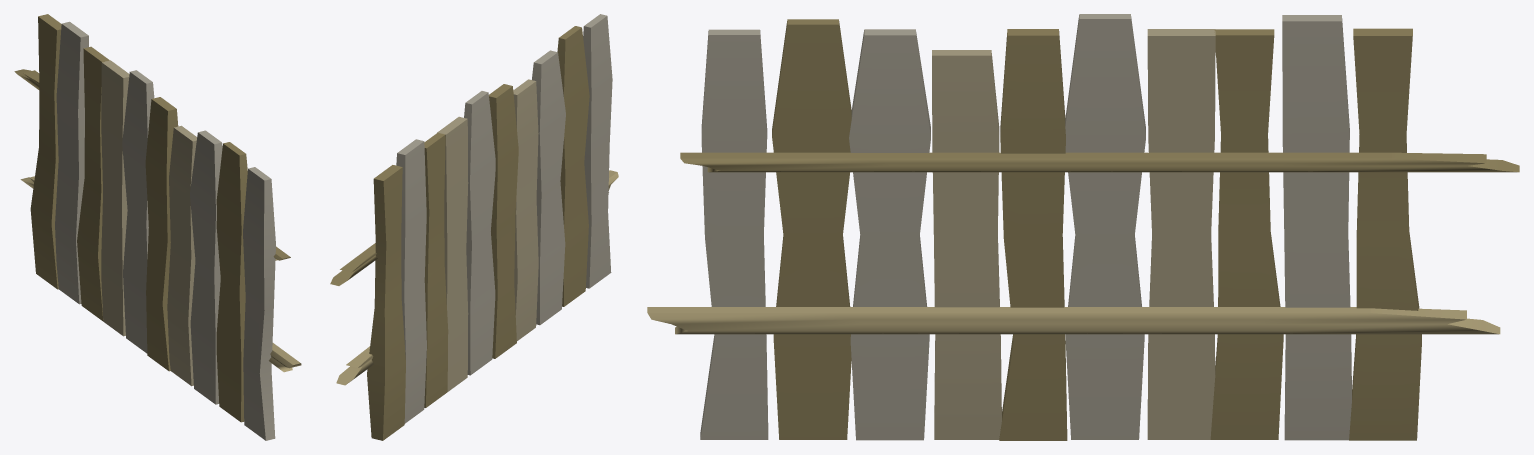
File: vaya.fbx
3 views of the same model, side by side, from view 1: azimuth 30°, elevation 25°; view 2: azimuth 150°, elevation 25°; view 3: azimuth 270°, elevation 25° (orthographic). The views are drawn at different scales.
Visible parts, largest first — view 1: pCube13; view 2: pCube13; view 3: pCube13.
Part boxes in pixels (x1,y1,x2,y2): pCube13: (14, 14, 301, 440); pCube13: (330, 14, 618, 440); pCube13: (647, 14, 1519, 440).
Size of the model in its own units: 0.5195 by 5.09 by 9.58.
